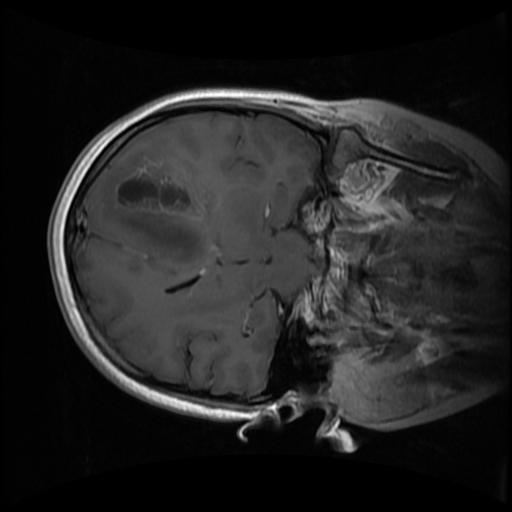glioma: (98, 157, 208, 264)
